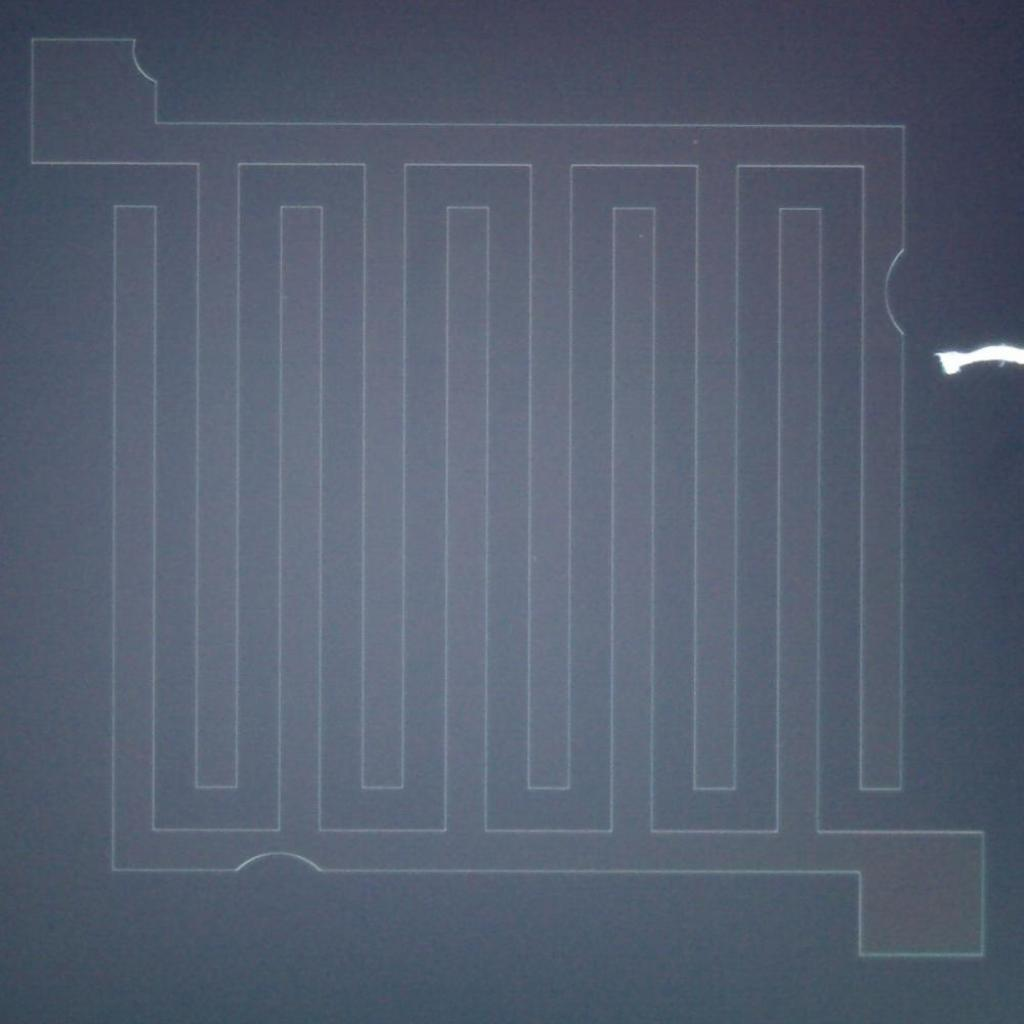curve: (986, 336, 1022, 370), (950, 342, 986, 376)
dot: (638, 234, 642, 239), (694, 140, 698, 144)
